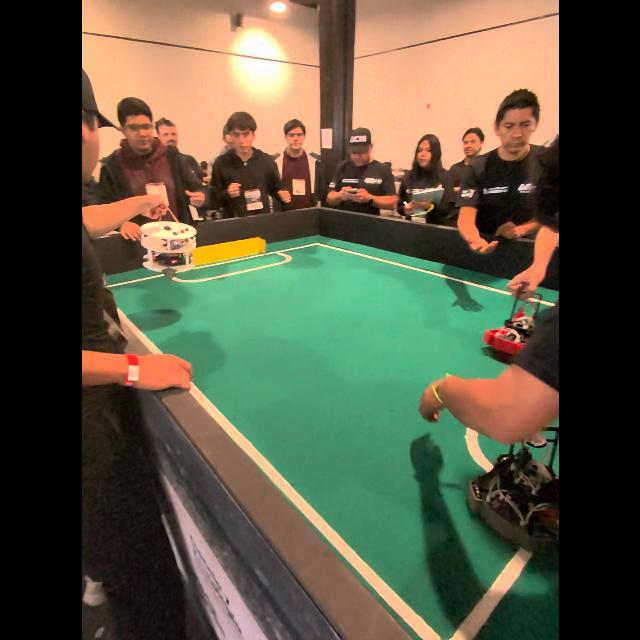goal: (192, 237, 265, 266)
robot: (468, 428, 558, 551), (483, 295, 541, 356), (141, 222, 200, 277)
